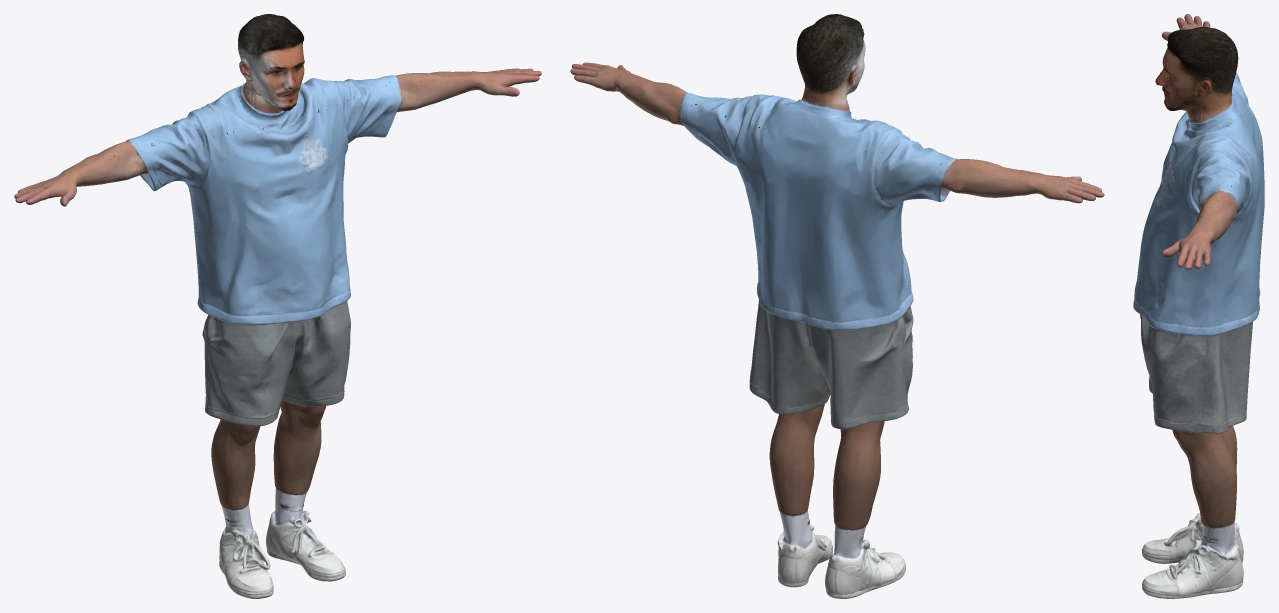
File: ronnie.glb
3 renders of one model, left to right at view 1: azimuth 30°, elevation 25°; view 2: azimuth 150°, elevation 25°; view 3: azimuth 270°, elevation 25°, orthographic. The views are drawn at different scales.
Parts seen in each view (by area): view 1: ronnie; view 2: ronnie; view 3: ronnie.
Part boxes in pixels (bbox=[...]): ronnie: bbox=[14, 14, 541, 598]; ronnie: bbox=[570, 14, 1104, 598]; ronnie: bbox=[1133, 14, 1264, 598].
Bounding box in the file's own units: 1.8 × 1.8 × 0.394.
Materials: 1 (1 with a texture image).
